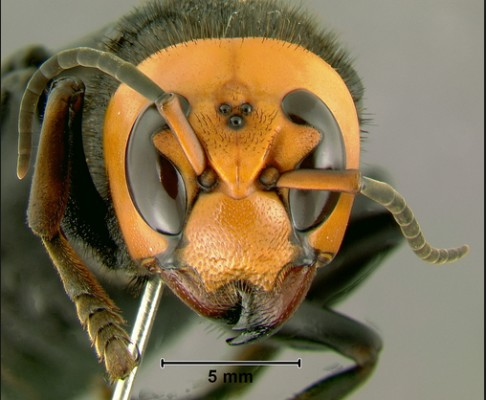asian_giant_hornet: (12, 1, 365, 359)
